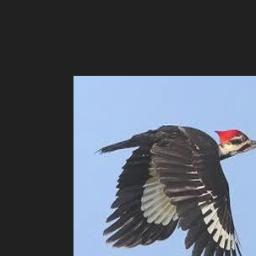Woodpecker: (93, 124, 256, 256)
